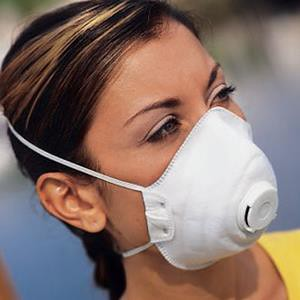n95: (135, 103, 285, 271)
